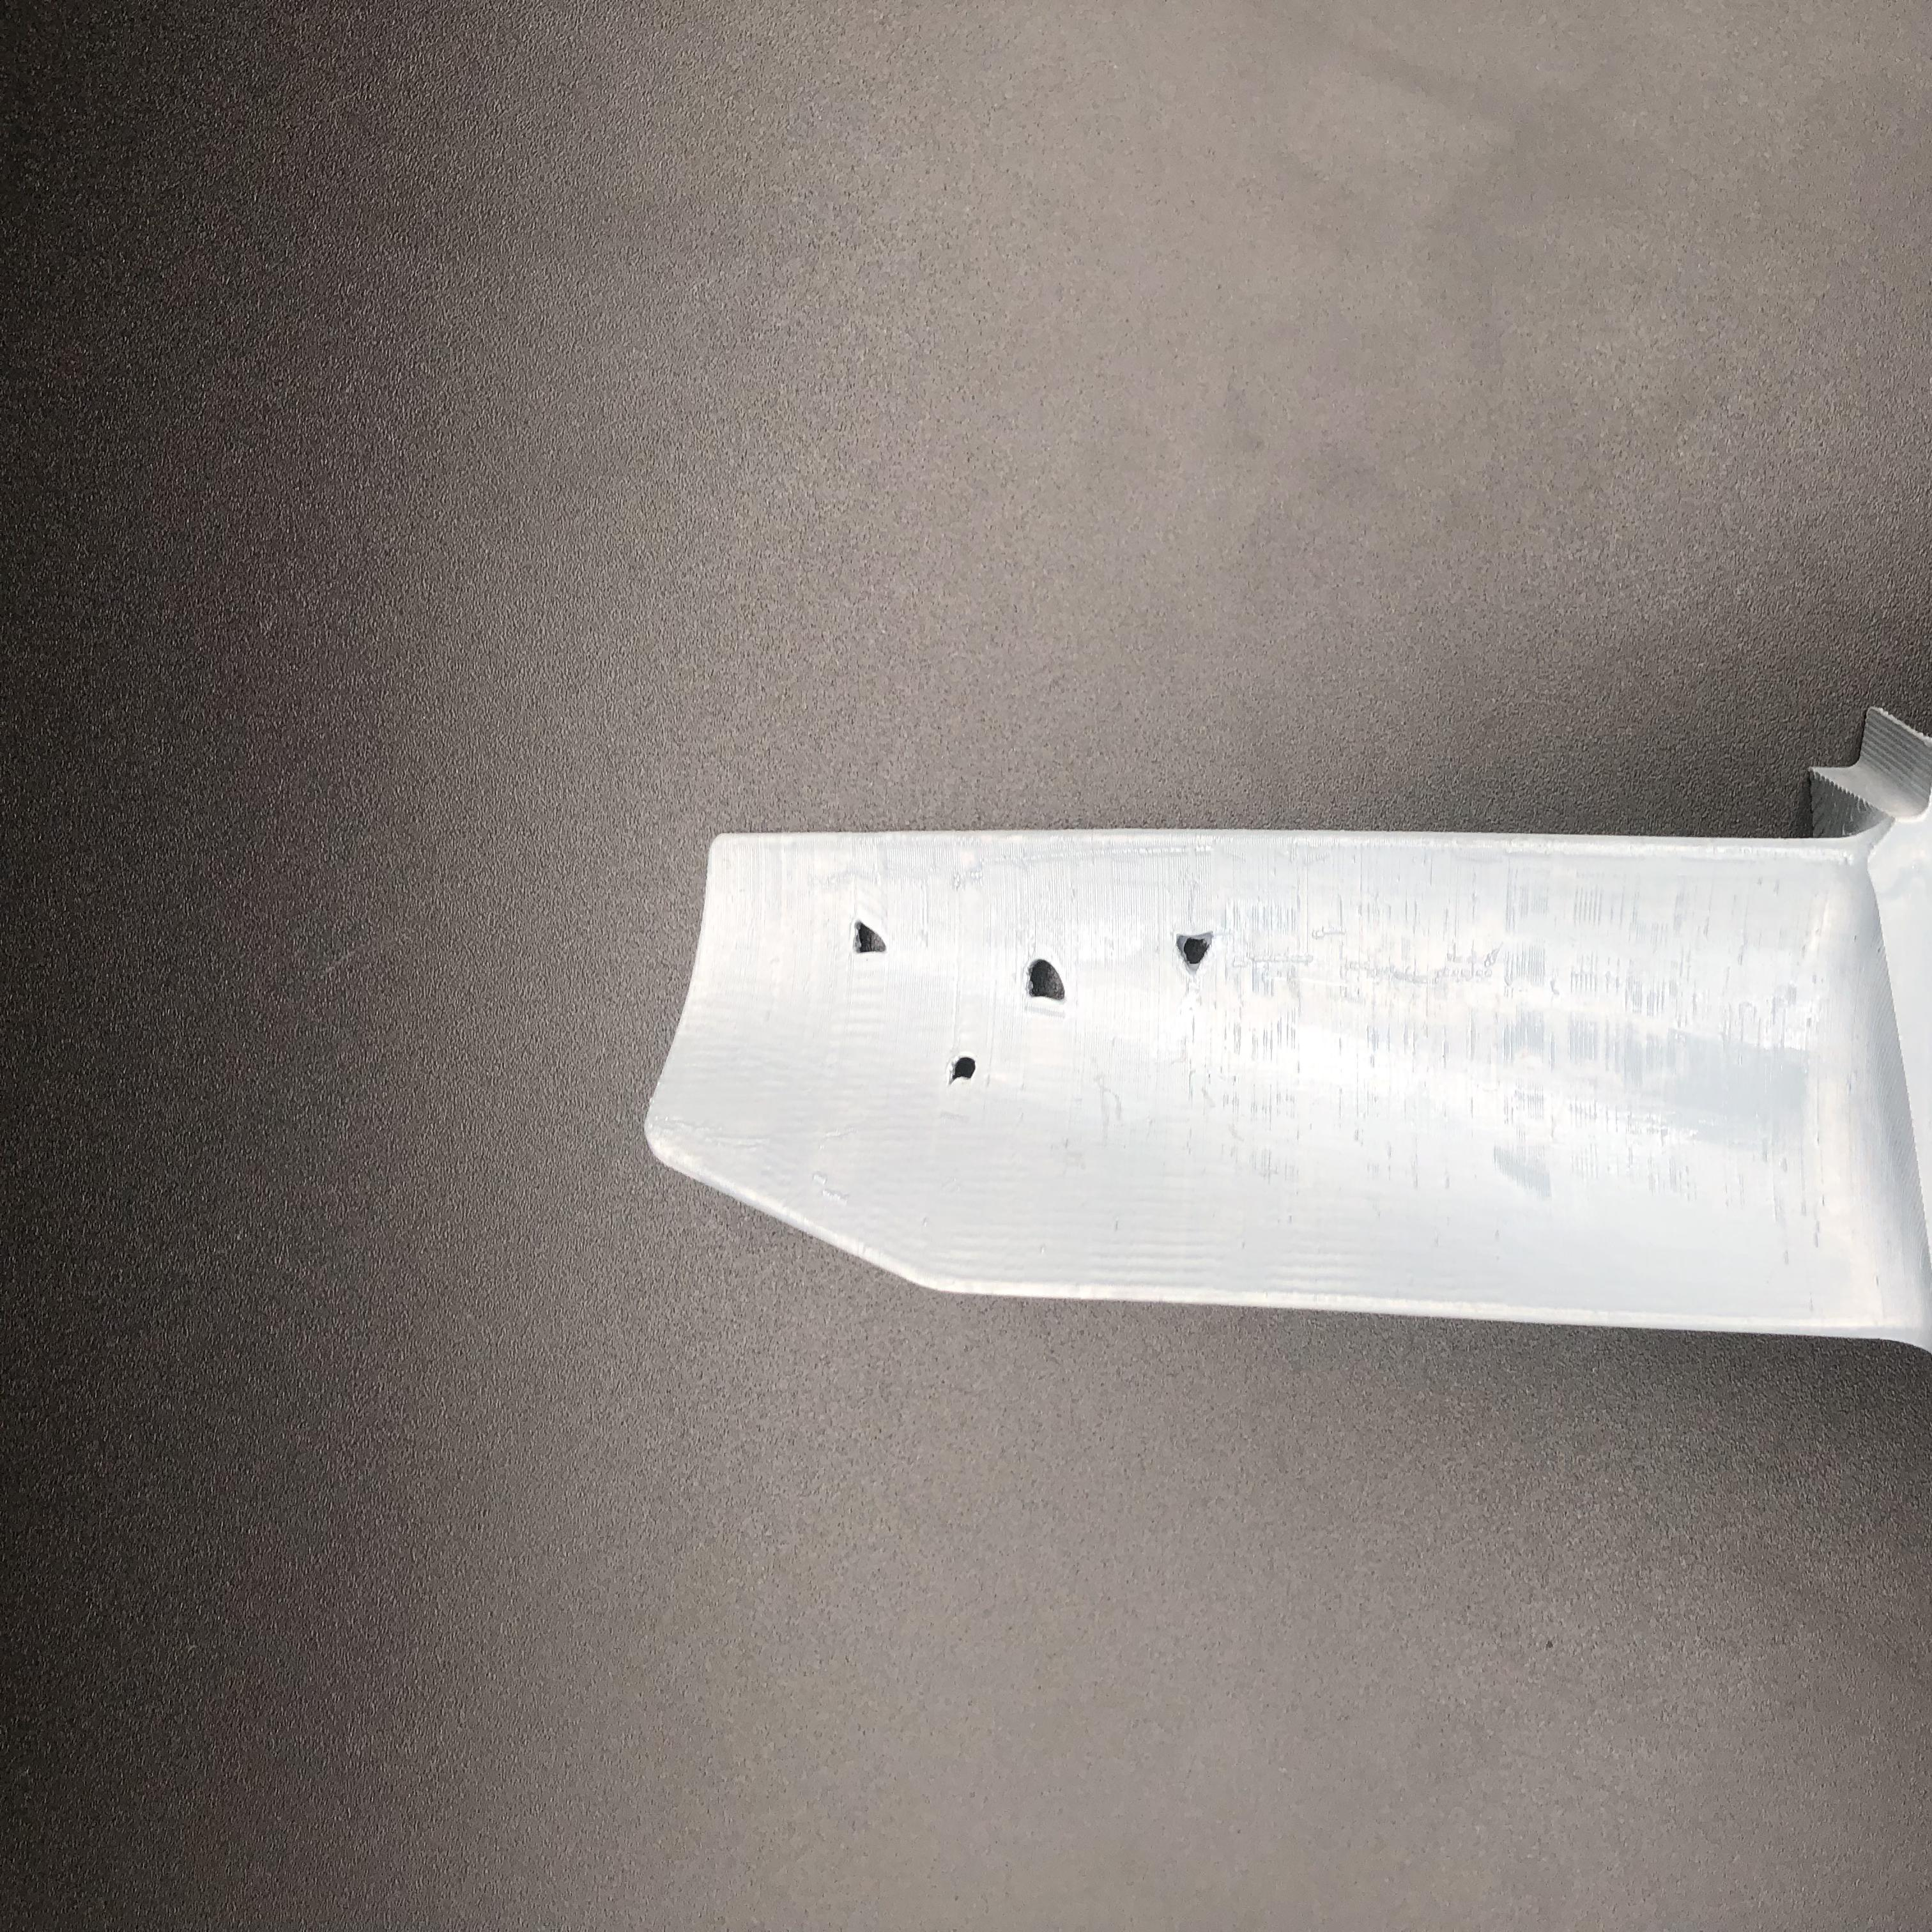breakdown: (840, 911, 1228, 1092)
